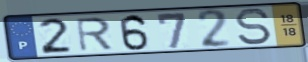2: (196, 6, 233, 51), (37, 17, 76, 56)
6: (117, 13, 150, 52)
7: (155, 11, 190, 50)
R: (74, 16, 115, 53)
S: (232, 7, 274, 47)
